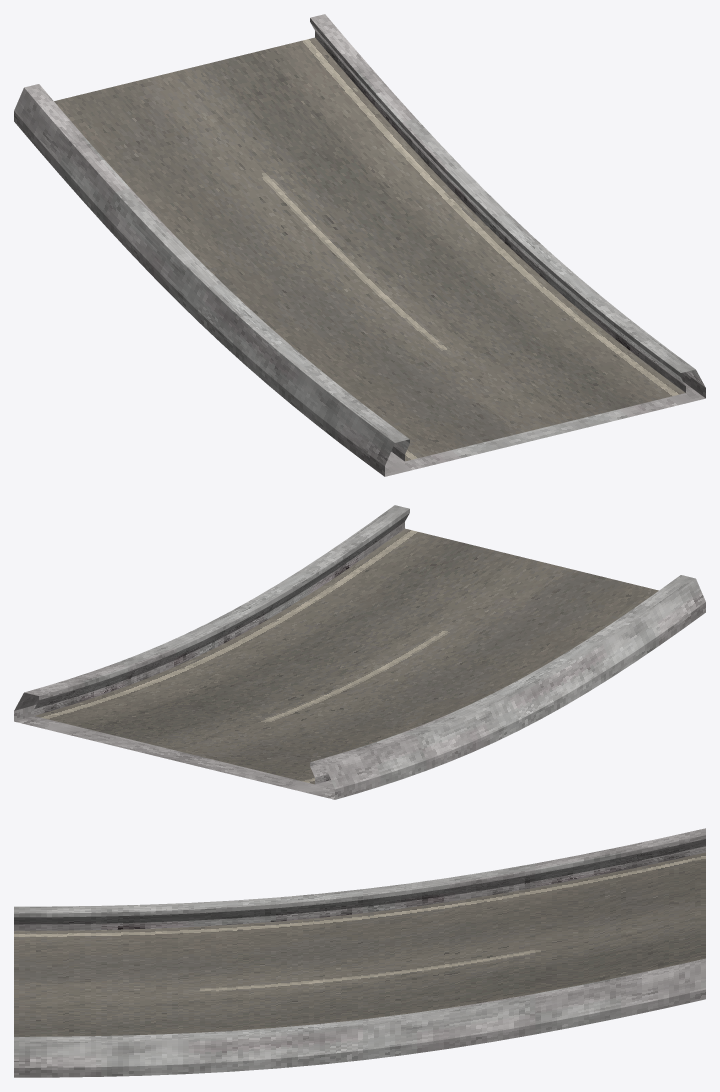
Rendered from road-Straight-Flat-BiSlopeUp-Up1-Center-Size2.glb.
3 views of the same model, one above another, from view 1: azimuth 30°, elevation 25°; view 2: azimuth 150°, elevation 25°; view 3: azimuth 270°, elevation 25° (orthographic). The views are drawn at different scales.
Parts seen in each view (by area): view 1: road-Straight-Flat-BiSlopeUp-Up1-Center-Size2; view 2: road-Straight-Flat-BiSlopeUp-Up1-Center-Size2; view 3: road-Straight-Flat-BiSlopeUp-Up1-Center-Size2.
Boxes of the visible parts, box(x1,y1,x2,y2) form: road-Straight-Flat-BiSlopeUp-Up1-Center-Size2: box(14, 14, 705, 476); road-Straight-Flat-BiSlopeUp-Up1-Center-Size2: box(14, 505, 705, 799); road-Straight-Flat-BiSlopeUp-Up1-Center-Size2: box(14, 828, 705, 1077).
Bounding box in the file's own units: 1 × 0.3438 × 2.
Materials: 2 (2 with a texture image).
